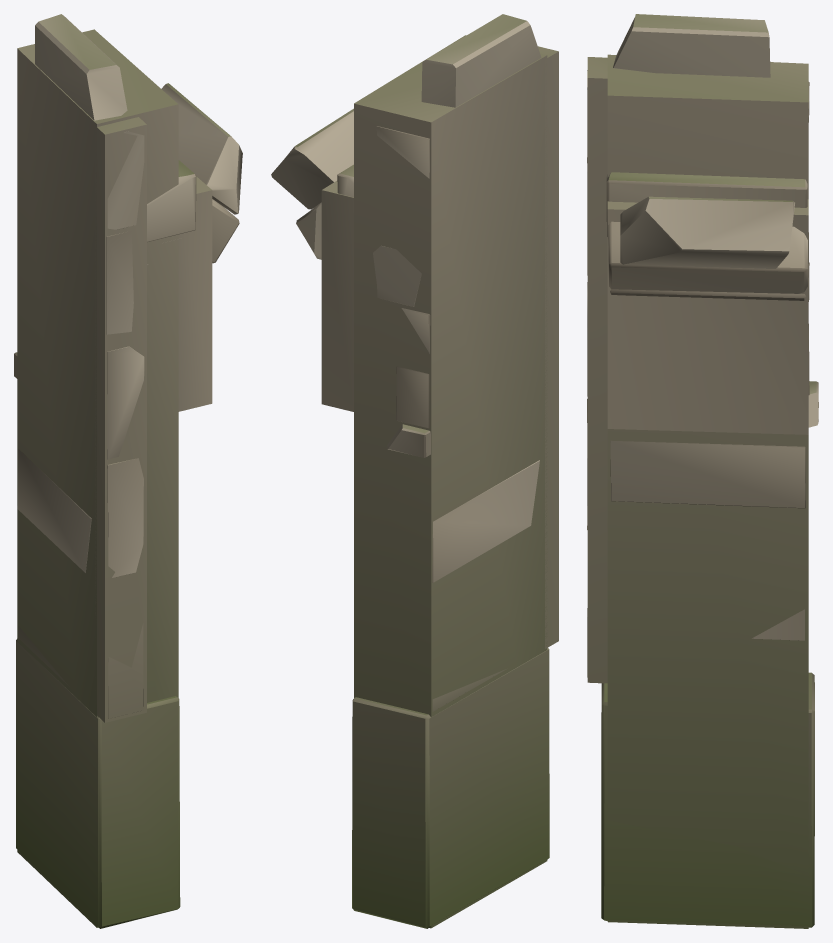
The model's file is arena_outer_broken.glb.
The picture shows the model from 3 angles, left to right: view 1: azimuth 30°, elevation 25°; view 2: azimuth 150°, elevation 25°; view 3: azimuth 270°, elevation 25°; orthographic projection. The views are drawn at different scales.
Visible parts, largest first — view 1: arena_outer_broken_far, arena_outer_broken; view 2: arena_outer_broken_far, arena_outer_broken; view 3: arena_outer_broken_far, arena_outer_broken.
Boxes of the visible parts, x1,y1,x2,y2 form: arena_outer_broken_far: (17,29,212,927); arena_outer_broken: (14,14,242,928); arena_outer_broken_far: (321,35,558,928); arena_outer_broken: (271,14,549,928); arena_outer_broken_far: (587,54,808,928); arena_outer_broken: (587,14,818,927).
Bounding box in the file's own units: 5.58 × 23.89 × 5.76.
